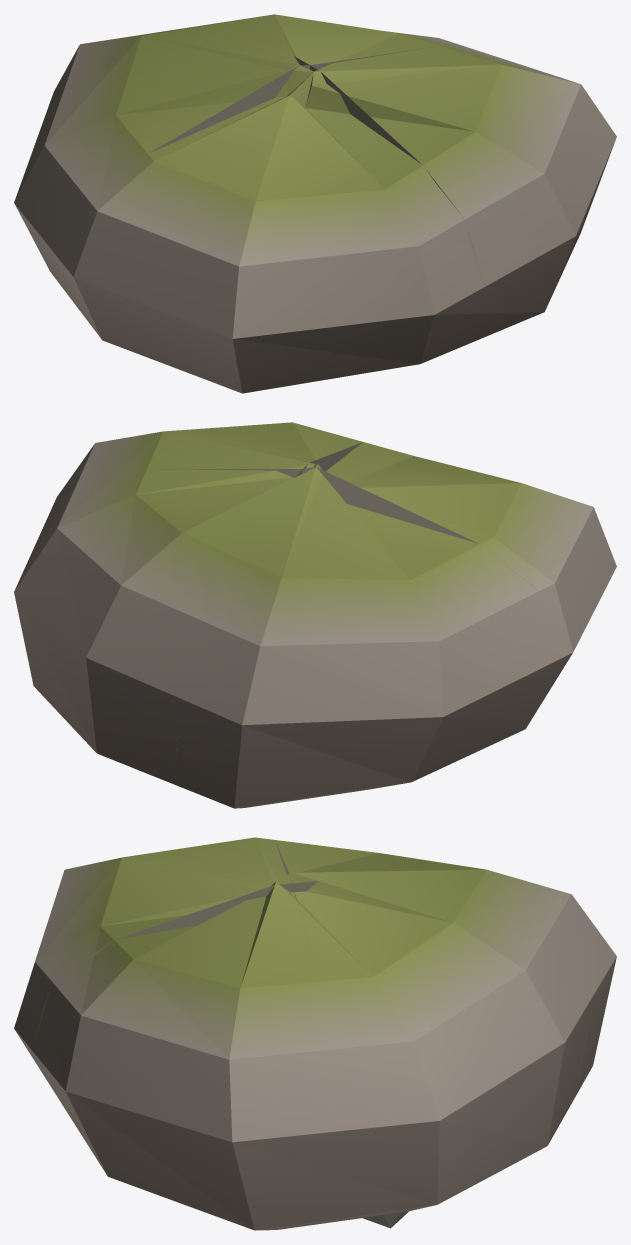
Rendered from Flint.glb.
3 renders of one model, top to bottom at view 1: azimuth 30°, elevation 25°; view 2: azimuth 150°, elevation 25°; view 3: azimuth 270°, elevation 25°, orthographic. The views are drawn at different scales.
Parts seen in each view (by area): view 1: Whole, Shard4, Shard3, Shard1, Shard2; view 2: Whole, Shard1, Shard4, Shard2, Shard3; view 3: Whole, Shard3, Shard2, Shard1, Shard4.
Part boxes in pixels (<box>): Whole: <box>14,14,616,393</box>; Shard4: <box>66,65,483,390</box>; Shard3: <box>310,46,575,345</box>; Shard1: <box>15,26,309,258</box>; Shard2: <box>193,14,468,69</box>; Whole: <box>14,422,614,808</box>; Shard1: <box>175,467,530,808</box>; Shard4: <box>302,448,616,734</box>; Shard2: <box>29,469,302,784</box>; Shard3: <box>64,422,362,492</box>; Whole: <box>21,837,616,1230</box>; Shard3: <box>32,883,372,1230</box>; Shard2: <box>292,882,577,1216</box>; Shard1: <box>275,840,616,1085</box>; Shard4: <box>14,837,292,1080</box>.
Bounding box in the file's own units: 0.9887 × 0.4812 × 0.9482.
